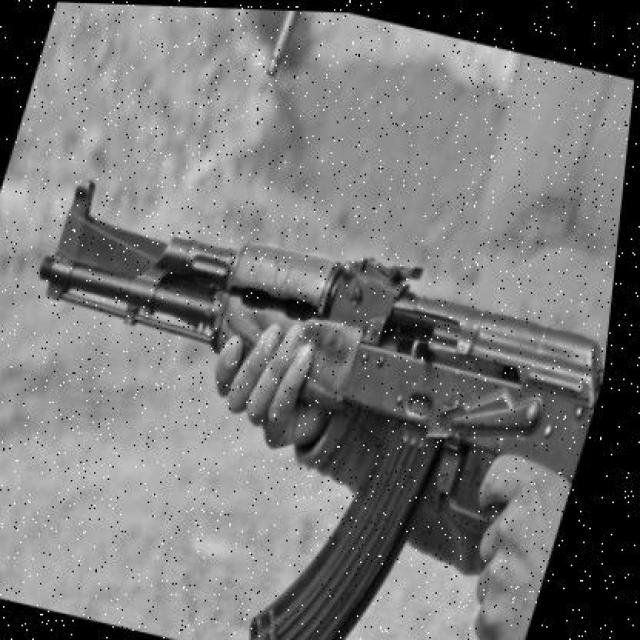weapon: (39, 180, 603, 640)
